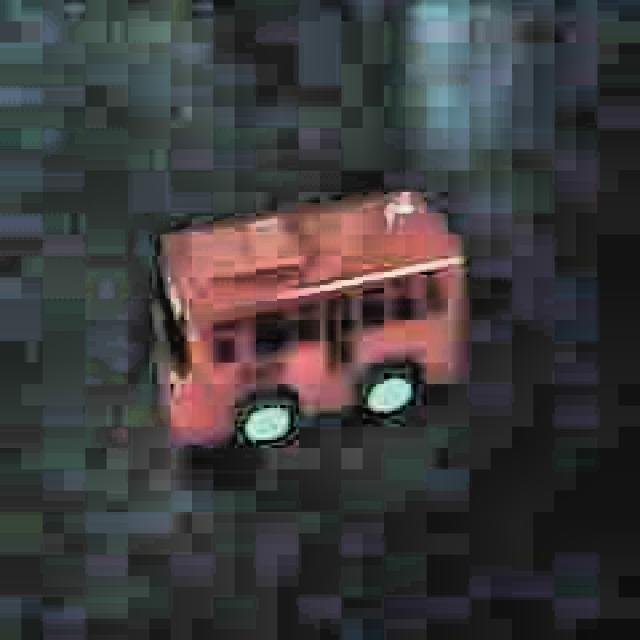bus: (150, 188, 469, 454)
